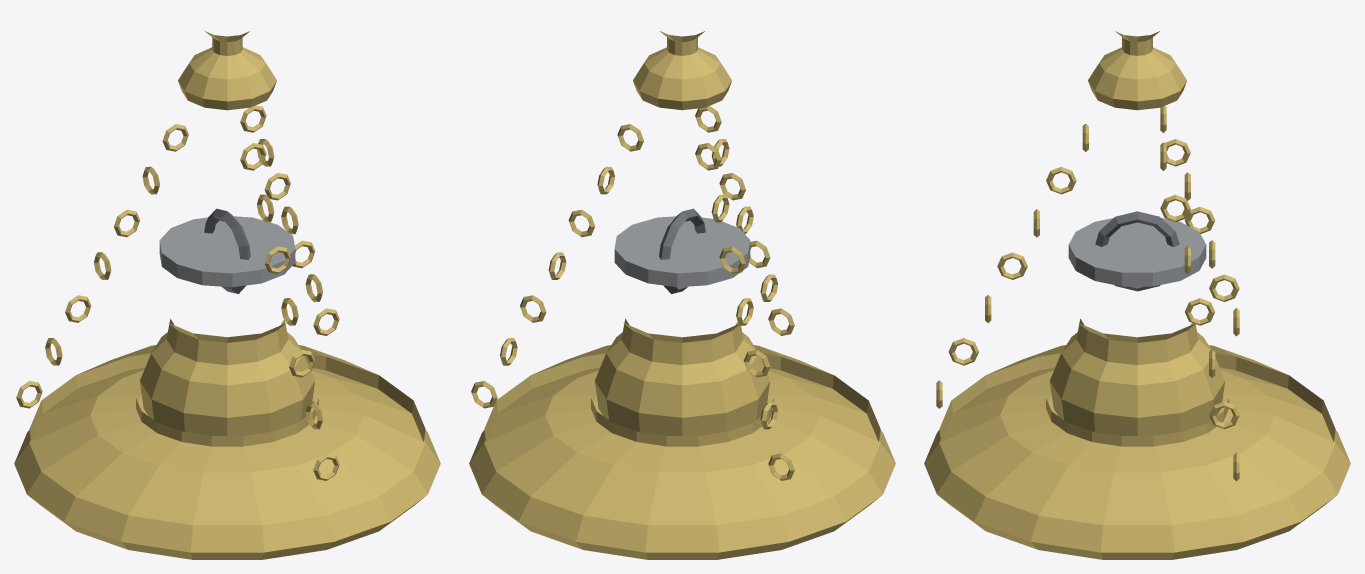
File: hanging_oil_lamp.glb
The picture shows the model from 3 angles, left to right: view 1: azimuth 30°, elevation 25°; view 2: azimuth 150°, elevation 25°; view 3: azimuth 270°, elevation 25°; orthographic projection.
Parts seen in each view (by area): view 1: 121-hanging-oil-lamp/0, 120-hanging-oil-lamp/0, 119-hanging-oil-lamp/0, 121-hanging-oil-lamp/1, 118-hanging-oil-lamp/1, 118-hanging-oil-lamp/0, 119-hanging-oil-lamp/1, 121-hanging-oil-lamp/2; view 2: 120-hanging-oil-lamp/0, 119-hanging-oil-lamp/0, 118-hanging-oil-lamp/0, 121-hanging-oil-lamp/0, 119-hanging-oil-lamp/1, 118-hanging-oil-lamp/1, 121-hanging-oil-lamp/1, 120-hanging-oil-lamp/2; view 3: 119-hanging-oil-lamp/0, 121-hanging-oil-lamp/0, 121-hanging-oil-lamp/1, 118-hanging-oil-lamp/0, 119-hanging-oil-lamp/1, 120-hanging-oil-lamp/1, 118-hanging-oil-lamp/1, 119-hanging-oil-lamp/2.
Boxes of the visible parts, x1,y1,x2,y2 form: 121-hanging-oil-lamp/0: (16, 31, 427, 559); 120-hanging-oil-lamp/0: (14, 35, 425, 529); 119-hanging-oil-lamp/0: (21, 34, 440, 493); 121-hanging-oil-lamp/1: (161, 223, 295, 287); 118-hanging-oil-lamp/1: (159, 216, 293, 273); 118-hanging-oil-lamp/0: (43, 35, 354, 436); 119-hanging-oil-lamp/1: (165, 217, 295, 273); 121-hanging-oil-lamp/2: (204, 211, 248, 293); 120-hanging-oil-lamp/0: (472, 31, 882, 559); 119-hanging-oil-lamp/0: (469, 31, 880, 549); 118-hanging-oil-lamp/0: (472, 35, 880, 559); 121-hanging-oil-lamp/0: (484, 31, 895, 528); 119-hanging-oil-lamp/1: (614, 217, 749, 283); 118-hanging-oil-lamp/1: (648, 216, 750, 287); 121-hanging-oil-lamp/1: (616, 217, 750, 271); 120-hanging-oil-lamp/2: (661, 211, 705, 293); 119-hanging-oil-lamp/0: (936, 31, 1350, 559); 121-hanging-oil-lamp/0: (924, 31, 1335, 530); 121-hanging-oil-lamp/1: (1068, 219, 1204, 280); 118-hanging-oil-lamp/0: (940, 34, 1350, 462); 119-hanging-oil-lamp/1: (1069, 232, 1206, 286); 120-hanging-oil-lamp/1: (1070, 220, 1204, 270); 118-hanging-oil-lamp/1: (1071, 218, 1203, 272); 119-hanging-oil-lamp/2: (1097, 211, 1179, 291).
Bounding box in the file's own units: 1.69 × 2 × 1.71.
